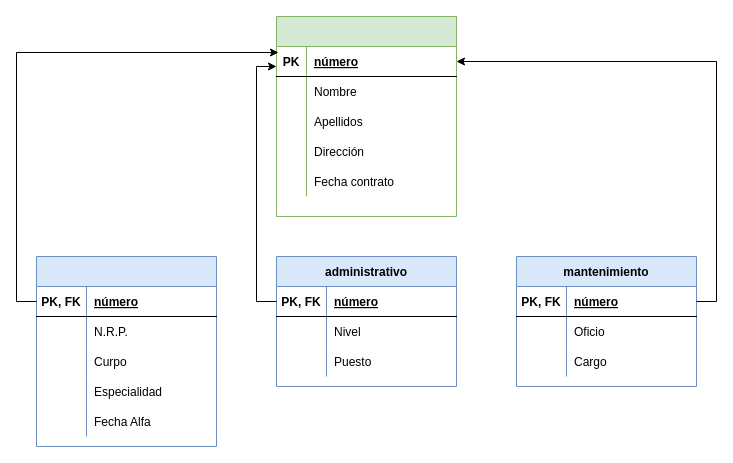
Image size: 733x463. Some labels were removed from this diagram. Each missing label, with the box of its shape:
empleado: (276, 16, 456, 216)
profesor: (36, 256, 216, 446)
